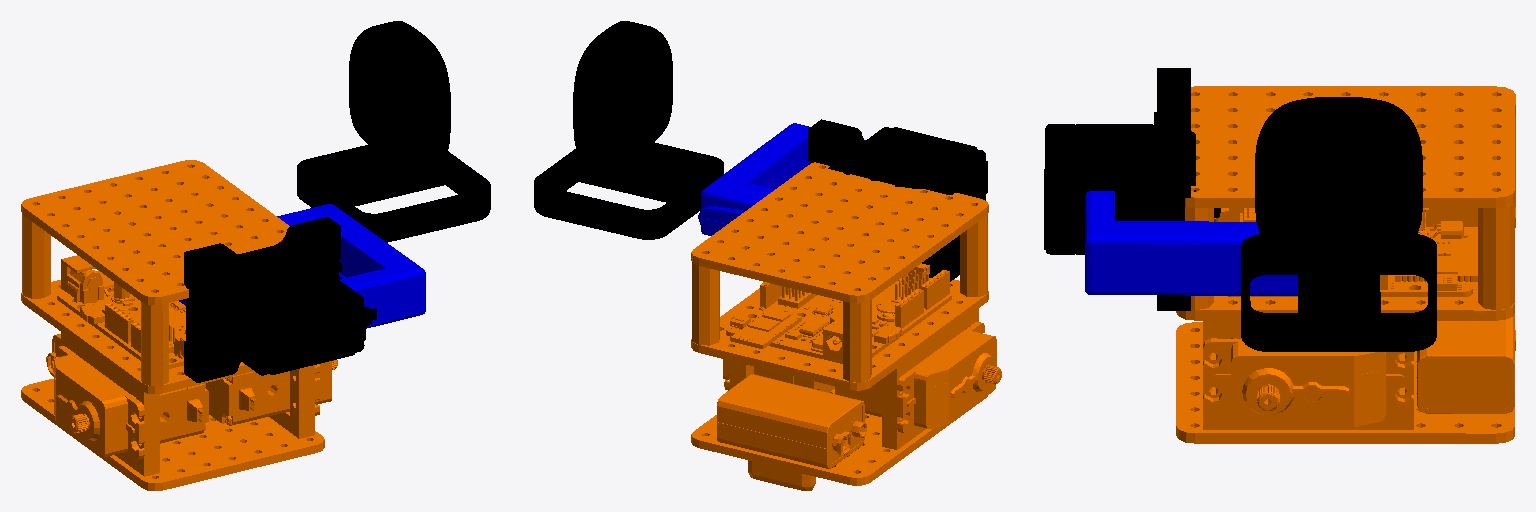
robot.urdf — cambot:
<!-- description of the robot -->
<robot name = "cambot">
	
	<!-- Robot -->
	
	<link name = "world" />
	
	<joint name = "world_cambot" type = "continuous">
		<parent link = "world" />
		<child link = "base_link" />
		<origin xyz = "0 0 0.35" rpy = "0 0 0"/>
		<axis xyz = "0 0 1" />
	</joint>
		
	<link name = "base_link">
		<visual>
			<origin xyz = "0 0 0" rpy = "1.57 0 1.57" />
			<geometry>
				<mesh filename = "package://cambot_description/meshes/cambot_base.stl" />
			</geometry>
			<material name = "cambot/orange">
				<color rgba = "1.0 0.5 0.0 1.0" />
			</material>
		</visual>
	</link>

	<joint name = "base_servo" type = "fixed">
		<parent link = "base_link" />
		<child link = "servo_link" />
		<origin xyz = "0.19 -0.355 0.59" rpy = "0 0 0"/>
	</joint>

	<link name = "servo_link">
		<visual>
			<origin xyz = "0 0 0" rpy = "-1.57 3.14 0" />
			<geometry>
				<mesh filename = "package://cambot_description/meshes/cambot_servo.stl" />
			</geometry>
			<material name = "cambot/black">
				<color rgba = "0.0 0.0 0.0 1.0" />
			</material>
		</visual>
	</link>

	<joint name = "servo_to_camera_support" type = "revolute">
		<limit effort="10.0" lower="-0.3" upper="1.0" velocity="0.5"/>
		<parent link = "servo_link" />
		<child link = "camera_support_link" />
		<origin xyz = "0.1 0.23 0.0" rpy = "-1.57 0 0" />
		<axis xyz = "0 0 1" />
		<safety_controller k_velocity="10" k_position="15" soft_lower_limit="-0.3" soft_upper_limit="0.5" />
	</joint>

	<link name = "camera_support_link">
		<visual>
			<origin xyz = "0 0 0.1" rpy = "0 1.57 3.14" />
			<geometry>
				<mesh filename = "package://cambot_description/meshes/cambot_camera_support.stl" />
			</geometry>
			<material name = "cambot/blue">
				<color rgba = "0.0 0.0 255.0 1.0" />
			</material>
		</visual>
	</link>

	<joint name = "camera_support_to_camera" type = "fixed">
		<parent link = "camera_support_link" />
		<child link = "camera_link" />
		<origin xyz = "0.65 -0.5 0.1" rpy = "0 0 0"/>
	</joint>

	<link name = "camera_link">
		<visual>
			<origin xyz = "0 0.1 0" rpy = "0 -1.57 3.14" />
			<geometry>
				<mesh filename = "package://cambot_description/meshes/cambot_camera.stl" />
			</geometry>
			<material name = "cambot/black">
				<color rgba = "0.0 0.0 0.0 1.0" />
			</material>
		</visual>
	</link>
</robot>

--- Facts derived from the render (not from the file) ---
Views: 3 orthographic renders of the robot side by side, from view 1: azimuth 30°, elevation 25°; view 2: azimuth 150°, elevation 25°; view 3: azimuth 270°, elevation 25°.
Robot: cambot — 5 links, 4 joints (1 revolute, 1 continuous, 2 fixed); root link world; default pose: all joints at 0.
Visible links, largest first — view 1: base_link, camera_link, servo_link, camera_support_link; view 2: base_link, camera_link, servo_link, camera_support_link; view 3: base_link, camera_link, servo_link, camera_support_link.
Boxes of the visible links, box(x1,y1,x2,y2) form: base_link: box(21, 160, 337, 490); camera_link: box(297, 21, 490, 242); servo_link: box(184, 217, 376, 382); camera_support_link: box(179, 204, 425, 328); base_link: box(691, 162, 1001, 490); camera_link: box(534, 21, 723, 239); servo_link: box(808, 119, 987, 281); camera_support_link: box(698, 123, 865, 235); base_link: box(1176, 86, 1515, 443); camera_link: box(1241, 97, 1436, 351); servo_link: box(1044, 68, 1220, 310); camera_support_link: box(1085, 191, 1297, 295).
Bounding box of the posed robot: 1.61 × 1.25 × 1.33 m (x, y, z).
4 mesh visuals loaded from 4 distinct referenced files (4 binary STL).